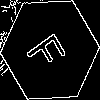F: (25, 25, 74, 76)
